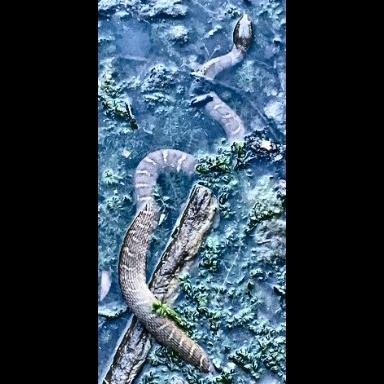snake: (118, 150, 216, 374), (192, 14, 253, 148)
